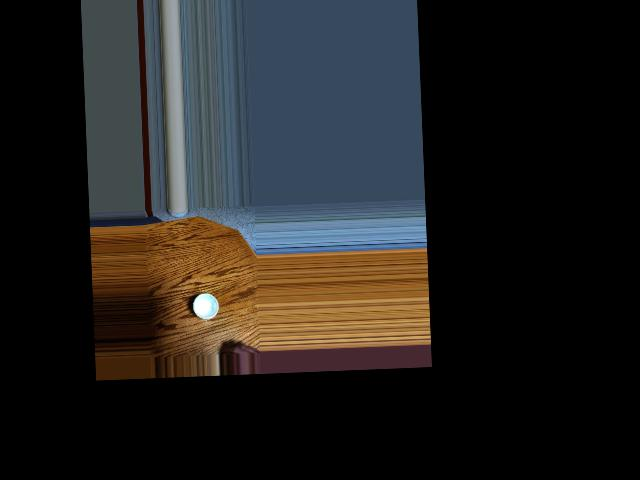cotage: (193, 290, 223, 324)
